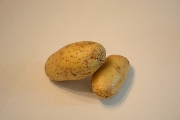potato: (44, 41, 107, 81), (91, 52, 131, 99)
